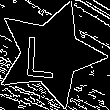L_N: (33, 28, 68, 80)
